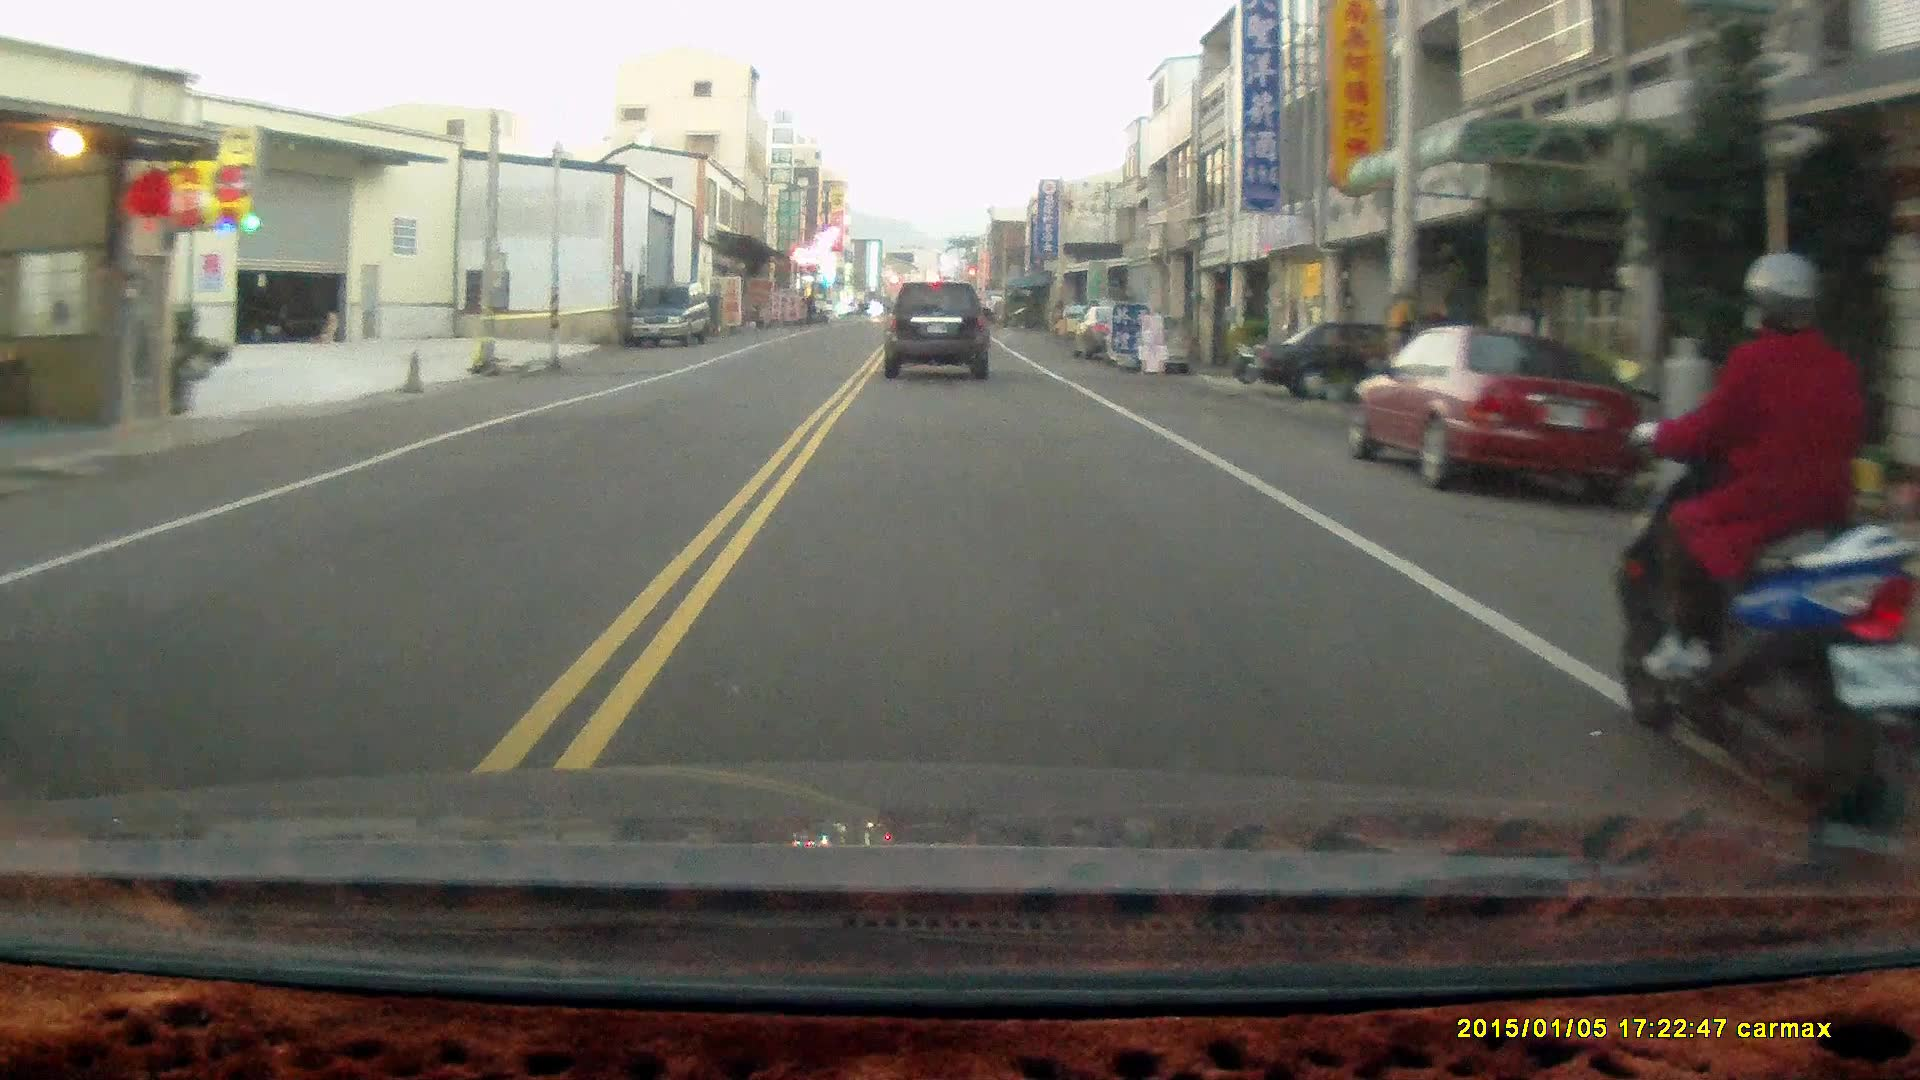rider: (1613, 249, 1913, 834)
vehicle: (1354, 320, 1668, 507), (1241, 315, 1470, 403), (885, 280, 993, 384), (620, 284, 719, 347)
